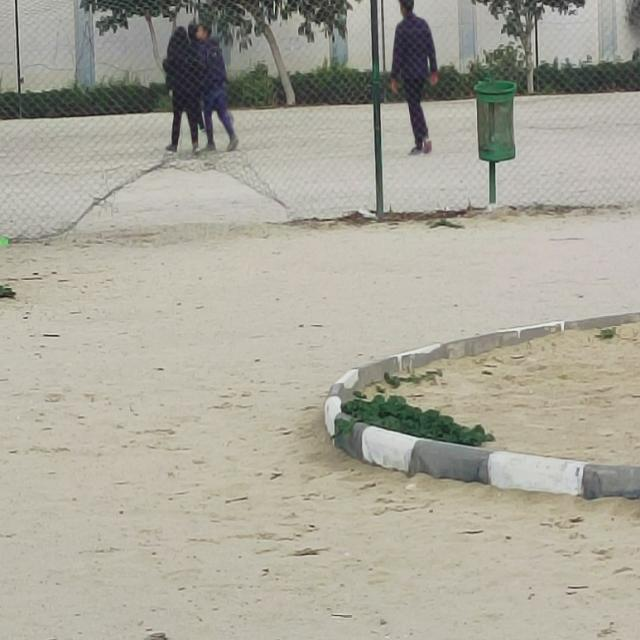fence line: (83, 161, 299, 228)
